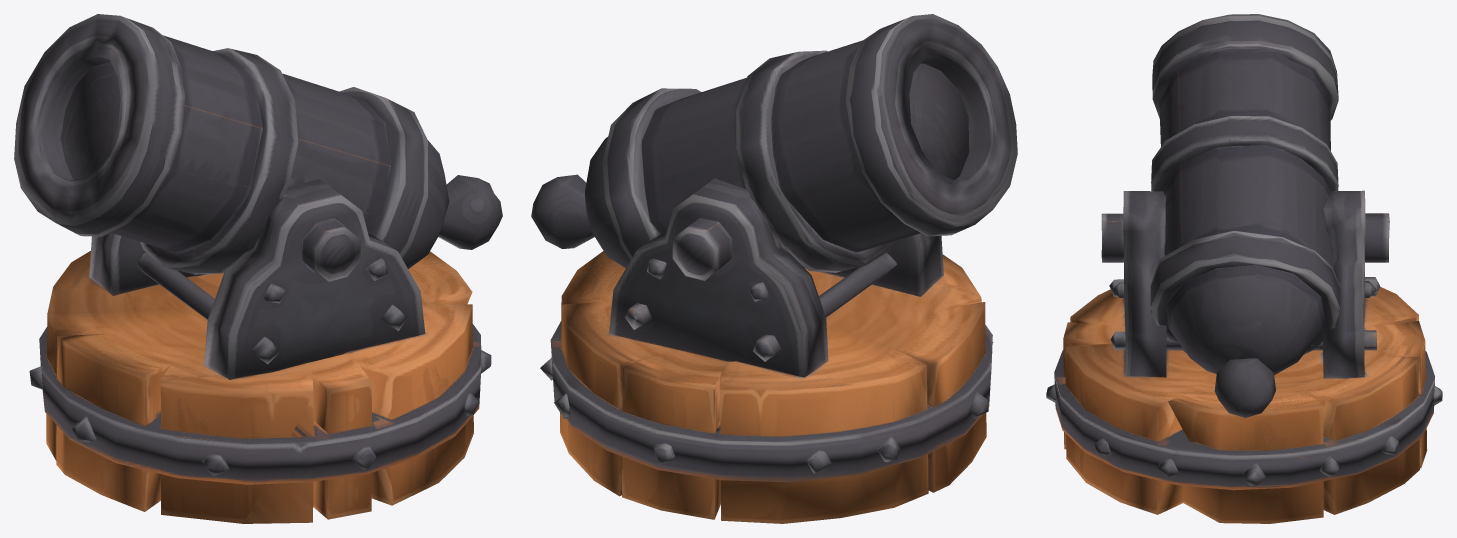
Rendered from meshy-chunky-mortar-1000.glb.
The picture shows the model from 3 angles, left to right: view 1: azimuth 30°, elevation 25°; view 2: azimuth 150°, elevation 25°; view 3: azimuth 270°, elevation 25°; orthographic projection. The views are drawn at different scales.
Bounding box in the file's own units: 1 × 0.9528 × 0.9011.
1 material, 1 textured.
